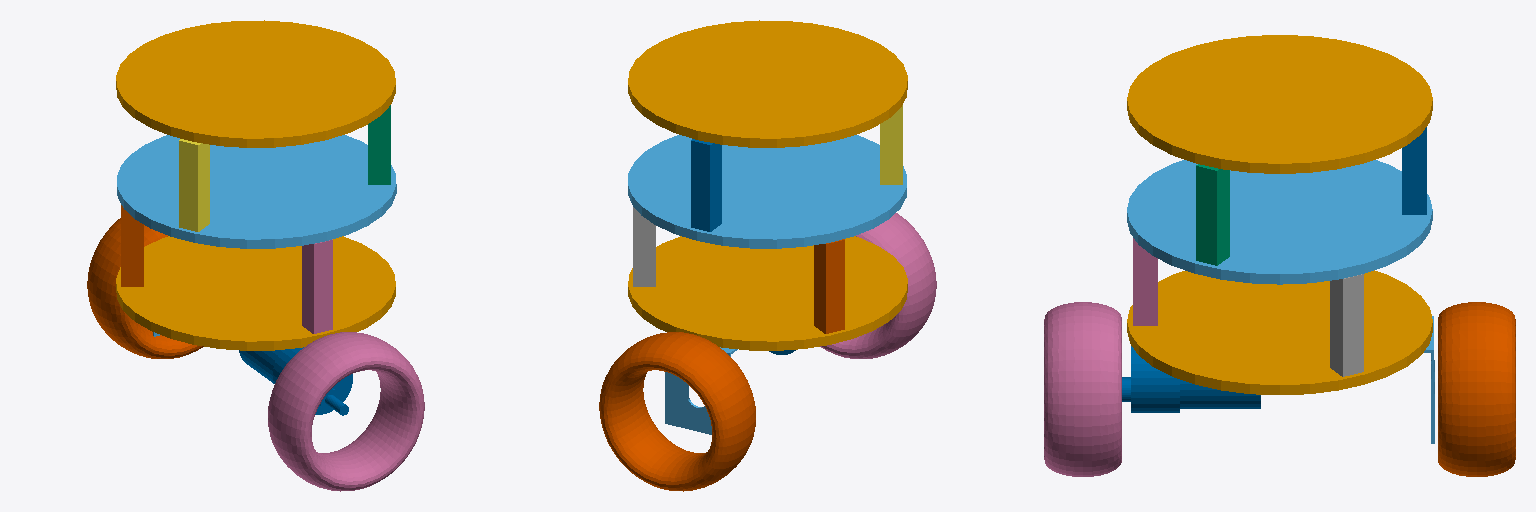
robot.urdf — Paucibot:
<?xml version="1.0"?>
<!-- created with Phobos 1.0.1 "Capricious Choutengan" -->
  <robot name="Paucibot">

    <link name="BaseLink">
      <inertial>
        <origin xyz="0 0 -0.00275" rpy="0 0 0"/>
        <mass value="0.07"/>
        <inertia ixx="0.0001" ixy="0" ixz="0" iyy="0.0001" iyz="0" izz="0.0002"/>
      </inertial>
      <visual name="lower_disc">
        <origin xyz="0 0 0" rpy="0 0 0"/>
        <geometry>
          <mesh filename="../meshes/stl/Circle.004.stl" scale="0.075 0.075 0.06329"/>
        </geometry>
      </visual>
      <collision name="lower_disc">
        <origin xyz="0 0 -0.00275" rpy="0 0 0"/>
        <geometry>
          <cylinder radius="0.075" length="0.0055"/>
        </geometry>
      </collision>
    </link>

    <link name="Holder1_link">
      <inertial>
        <origin xyz="0 0 0" rpy="0 0 0"/>
        <mass value="0.03"/>
        <inertia ixx="0.001" ixy="0" ixz="0" iyy="0.001" iyz="0" izz="0.001"/>
      </inertial>
      <visual name="Holder2">
        <origin xyz="0 0 0" rpy="0 0 0"/>
        <geometry>
          <mesh filename="../meshes/stl/Cube.010.stl" scale="0.95238 0.7619 0.03429"/>
        </geometry>
      </visual>
      <collision name="Holder2">
        <origin xyz="0.00045 0 0.01455" rpy="0 0 0"/>
        <geometry>
          <box size="0.0509 0.04 0.0309"/>
        </geometry>
      </collision>
    </link>

    <link name="Holder2_link">
      <inertial>
        <origin xyz="0 0 0" rpy="0 0 0"/>
        <mass value="0.03"/>
        <inertia ixx="0.001" ixy="0" ixz="0" iyy="0.001" iyz="0" izz="0.001"/>
      </inertial>
      <visual name="Holder1">
        <origin xyz="0 0 0" rpy="0 0 0"/>
        <geometry>
          <mesh filename="../meshes/stl/Cube.009.stl" scale="0.95238 0.7619 0.03429"/>
        </geometry>
      </visual>
      <collision name="Holder1">
        <origin xyz="0.00045 0 0.01455" rpy="0 0 0"/>
        <geometry>
          <box size="0.0509 0.04 0.0309"/>
        </geometry>
      </collision>
    </link>

    <link name="Motor1_link">
      <inertial>
        <origin xyz="0 0 -0.02034" rpy="0 0 0"/>
        <mass value="0.225"/>
        <inertia ixx="7e-05" ixy="0" ixz="0" iyy="3e-05" iyz="0" izz="2e-05"/>
      </inertial>
      <visual name="Motor1">
        <origin xyz="0 0 0" rpy="0 0 0"/>
        <geometry>
          <mesh filename="../meshes/stl/Cylinder.stl" scale="1.0 1.0 1.0"/>
        </geometry>
      </visual>
      <collision name="Motor1">
        <origin xyz="0 0 -0.02034" rpy="0 0 0"/>
        <geometry>
          <cylinder radius="0.018" length="0.06216"/>
        </geometry>
      </collision>
    </link>

    <link name="Motor2_link">
      <inertial>
        <origin xyz="0 0 -0.02027" rpy="0 0 0"/>
        <mass value="0.225"/>
        <inertia ixx="7e-05" ixy="0" ixz="0" iyy="3e-05" iyz="0" izz="2e-05"/>
      </inertial>
      <visual name="Motor2">
        <origin xyz="0 0 0" rpy="0 0 0"/>
        <geometry>
          <mesh filename="../meshes/stl/Cylinder.001.stl" scale="1.0 1.0 1.0"/>
        </geometry>
      </visual>
      <collision name="Motor2">
        <origin xyz="0 0 -0.02027" rpy="0 0 0"/>
        <geometry>
          <cylinder radius="0.018" length="0.06262"/>
        </geometry>
      </collision>
    </link>

    <link name="Pillar1_link">
      <inertial>
        <origin xyz="0 0 0" rpy="0 0 0"/>
        <mass value="0.001"/>
        <inertia ixx="2e-05" ixy="0" ixz="0" iyy="2e-05" iyz="0" izz="2e-05"/>
      </inertial>
      <visual name="Pillar1">
        <origin xyz="0 0.00474 0.00025" rpy="0 0 0"/>
        <geometry>
          <box size="0.0122 0.0122 0.053"/>
        </geometry>
      </visual>
      <collision name="Pillar1">
        <origin xyz="0 0.00474 0.00025" rpy="0 0 0"/>
        <geometry>
          <box size="0.0122 0.0122 0.053"/>
        </geometry>
      </collision>
    </link>

    <link name="Pillar2_link">
      <inertial>
        <origin xyz="0 0 0" rpy="0 0 0"/>
        <mass value="0.001"/>
        <inertia ixx="2e-05" ixy="0" ixz="0" iyy="2e-05" iyz="0" izz="2e-05"/>
      </inertial>
      <visual name="Pillar2">
        <origin xyz="0 0.00475 0.00025" rpy="0 0 0"/>
        <geometry>
          <box size="0.0122 0.0122 0.053"/>
        </geometry>
      </visual>
      <collision name="Pillar2">
        <origin xyz="0 0.00475 0.00025" rpy="0 0 0"/>
        <geometry>
          <box size="0.0122 0.0122 0.053"/>
        </geometry>
      </collision>
    </link>

    <link name="Pillar3_link">
      <inertial>
        <origin xyz="0 0 0" rpy="0 0 0"/>
        <mass value="0.001"/>
        <inertia ixx="2e-05" ixy="0" ixz="0" iyy="2e-05" iyz="0" izz="2e-05"/>
      </inertial>
      <visual name="Pillar3">
        <origin xyz="0 0.00474 0.00025" rpy="0 0 0"/>
        <geometry>
          <box size="0.0122 0.0122 0.053"/>
        </geometry>
      </visual>
      <collision name="Pillar3">
        <origin xyz="0 0.00474 0.00025" rpy="0 0 0"/>
        <geometry>
          <box size="0.0122 0.0122 0.053"/>
        </geometry>
      </collision>
    </link>

    <link name="TopDisk">
      <inertial>
        <origin xyz="0 0 -0.00275" rpy="0 0 0"/>
        <mass value="0.07"/>
        <inertia ixx="0.0001" ixy="0" ixz="0" iyy="0.0001" iyz="0" izz="0.0002"/>
      </inertial>
      <visual name="upper_disc.001">
        <origin xyz="0 0 0" rpy="0 0 0"/>
        <geometry>
          <cylinder radius="0.075" length="0.0055"/>
        </geometry>
      </visual>
      <collision name="upper_disc.001">
        <origin xyz="0 0 -0.00275" rpy="0 0 0"/>
        <geometry>
          <cylinder radius="0.075" length="0.0055"/>
        </geometry>
      </collision>
    </link>

    <link name="UpperLink">
      <inertial>
        <origin xyz="0 0 -0.00275" rpy="0 0 0"/>
        <mass value="0.07"/>
        <inertia ixx="0.0001" ixy="0" ixz="0" iyy="0.0001" iyz="0" izz="0.0002"/>
      </inertial>
      <visual name="mid_disc">
        <origin xyz="0.00032 -0.0001 -0.00061" rpy="0 0 -3.14159"/>
        <geometry>
          <cylinder radius="0.075" length="0.0055"/>
        </geometry>
      </visual>
      <collision name="upper_disc">
        <origin xyz="0 0 -0.00275" rpy="0 0 0"/>
        <geometry>
          <cylinder radius="0.075" length="0.0055"/>
        </geometry>
      </collision>
    </link>

    <link name="UpperPillar1">
      <inertial>
        <origin xyz="0 0 0" rpy="0 0 0"/>
        <mass value="0.001"/>
        <inertia ixx="2e-05" ixy="0" ixz="0" iyy="2e-05" iyz="0" izz="2e-05"/>
      </inertial>
      <visual name="Pillar1.001">
        <origin xyz="0 0 0" rpy="0 0 0"/>
        <geometry>
          <box size="0.0122 0.0122 0.053"/>
        </geometry>
      </visual>
      <collision name="Pillar1.001">
        <origin xyz="0 0 0" rpy="0 0 0"/>
        <geometry>
          <box size="0.0122 0.0122 0.053"/>
        </geometry>
      </collision>
    </link>

    <link name="UpperPillar2">
      <inertial>
        <origin xyz="0 0 0" rpy="0 0 0"/>
        <mass value="0.001"/>
        <inertia ixx="4e-05" ixy="0" ixz="0" iyy="4e-05" iyz="0" izz="2e-05"/>
      </inertial>
      <visual name="Pillar2.001">
        <origin xyz="0 0 0" rpy="0 0 0"/>
        <geometry>
          <box size="0.0122 0.0122 0.053"/>
        </geometry>
      </visual>
      <collision name="Pillar3.001">
        <origin xyz="0 0 0" rpy="0 0 0"/>
        <geometry>
          <box size="0.0122 0.0122 0.053"/>
        </geometry>
      </collision>
    </link>

    <link name="UpperPillar3">
      <inertial>
        <origin xyz="0 0 0" rpy="0 0 0"/>
        <mass value="0.001"/>
        <inertia ixx="2e-05" ixy="0" ixz="0" iyy="2e-05" iyz="0" izz="2e-05"/>
      </inertial>
      <visual name="Pillar3.001.000">
        <origin xyz="0 0 0" rpy="0 0 0"/>
        <geometry>
          <box size="0.0122 0.0122 0.053"/>
        </geometry>
      </visual>
      <collision name="Pillar2.001">
        <origin xyz="0 0 0" rpy="0 0 0"/>
        <geometry>
          <box size="0.0122 0.0122 0.053"/>
        </geometry>
      </collision>
    </link>

    <link name="wheel1_link">
      <inertial>
        <origin xyz="0 0 0" rpy="0 0 0"/>
        <mass value="0.13"/>
        <inertia ixx="4e-05" ixy="0" ixz="0" iyy="7e-05" iyz="0" izz="0.00117"/>
      </inertial>
      <visual name="Wheel1">
        <origin xyz="0 0 0" rpy="0 0 0"/>
        <geometry>
          <mesh filename="../meshes/stl/Torus.stl" scale="0.81132 0.81132 1.89758"/>
        </geometry>
      </visual>
      <collision name="Wheel1">
        <origin xyz="0 0 0" rpy="0 0 0"/>
        <geometry>
          <cylinder radius="0.043" length="0.03798"/>
        </geometry>
      </collision>
    </link>

    <link name="wheel2_link">
      <inertial>
        <origin xyz="0 0 0" rpy="0 0 0"/>
        <mass value="0.13"/>
        <inertia ixx="4e-05" ixy="0" ixz="0" iyy="7e-05" iyz="0" izz="0.00117"/>
      </inertial>
      <visual name="Wheel2">
        <origin xyz="0 0 0" rpy="0 0 0"/>
        <geometry>
          <mesh filename="../meshes/stl/Torus.002.stl" scale="0.81132 0.81132 1.89758"/>
        </geometry>
      </visual>
      <collision name="Wheel2">
        <origin xyz="0 0 0" rpy="0 0 0"/>
        <geometry>
          <cylinder radius="0.043" length="0.03798"/>
        </geometry>
      </collision>
    </link>

    <joint name="Holder1_link" type="fixed">
      <origin xyz="0 0.075 -0.0323" rpy="1.5708 -1.5708 0"/>
      <parent link="BaseLink"/>
      <child link="Holder1_link"/>
    </joint>

    <joint name="Holder2_link" type="fixed">
      <origin xyz="0 -0.075 -0.0323" rpy="-1.5708 -1.5708 0"/>
      <parent link="BaseLink"/>
      <child link="Holder2_link"/>
    </joint>

    <joint name="Motor1_link" type="fixed">
      <origin xyz="0.002 0 0.0138" rpy="0 3.14159 0"/>
      <parent link="Holder1_link"/>
      <child link="Motor1_link"/>
    </joint>

    <joint name="Motor2_link" type="fixed">
      <origin xyz="0.002 0 0.0139" rpy="0 -3.14159 0"/>
      <parent link="Holder2_link"/>
      <child link="Motor2_link"/>
    </joint>

    <joint name="Pillar1_link" type="fixed">
      <origin xyz="-0.06127 0.03537 0.02625" rpy="0 0 -2.0944"/>
      <parent link="BaseLink"/>
      <child link="Pillar1_link"/>
    </joint>

    <joint name="Pillar2_link" type="fixed">
      <origin xyz="0 -0.07075 0.02625" rpy="0 0 0"/>
      <parent link="BaseLink"/>
      <child link="Pillar2_link"/>
    </joint>

    <joint name="Pillar3_link" type="fixed">
      <origin xyz="0.06127 0.03537 0.02625" rpy="0 0 2.0944"/>
      <parent link="BaseLink"/>
      <child link="Pillar3_link"/>
    </joint>

    <joint name="TopDisk" type="fixed">
      <origin xyz="0 0.066 0.032" rpy="0 0 0"/>
      <parent link="UpperPillar3"/>
      <child link="TopDisk"/>
    </joint>

    <joint name="UpperLink" type="fixed">
      <origin xyz="0 0.07075 0.03175" rpy="0 0 0"/>
      <parent link="Pillar2_link"/>
      <child link="UpperLink"/>
    </joint>

    <joint name="UpperPillar1" type="fixed">
      <origin xyz="0.05716 -0.033 0.027" rpy="0 0 1.0472"/>
      <parent link="UpperLink"/>
      <child link="UpperPillar1"/>
    </joint>

    <joint name="UpperPillar2" type="fixed">
      <origin xyz="-0.05716 -0.033 0.027" rpy="0 0 -1.0472"/>
      <parent link="UpperLink"/>
      <child link="UpperPillar2"/>
    </joint>

    <joint name="UpperPillar3" type="fixed">
      <origin xyz="0 0.066 0.027" rpy="0 0 -3.14159"/>
      <parent link="UpperLink"/>
      <child link="UpperPillar3"/>
    </joint>

    <joint name="wheel1_link" type="continuous">
      <origin xyz="-0.005 0 -0.0215" rpy="0 0 -1.5708"/>
      <parent link="Holder1_link"/>
      <child link="wheel1_link"/>
      <axis xyz="0 0 1.0"/>
      <limit effort="0.26" velocity="15.708"/>
    </joint>

    <joint name="wheel2_link" type="continuous">
      <origin xyz="0.007 0 0.0354" rpy="0 0 1.5708"/>
      <parent link="Motor2_link"/>
      <child link="wheel2_link"/>
      <axis xyz="0 0 1.0"/>
      <limit effort="0.26" velocity="15.708"/>
    </joint>

  </robot>

--- What the picture shows (computed from the rendered views, not written in the file) ---
Views: 3 orthographic renders of the robot side by side, from view 1: azimuth 30°, elevation 25°; view 2: azimuth 150°, elevation 25°; view 3: azimuth 270°, elevation 25°.
Robot: Paucibot — 15 links, 14 joints (2 continuous, 12 fixed); root link BaseLink; default pose: every joint at zero.
Visible links, largest first — view 1: TopDisk, UpperLink, BaseLink, wheel2_link, wheel1_link, Pillar2_link, UpperPillar2, Motor2_link, Pillar1_link, UpperPillar1; view 2: TopDisk, UpperLink, BaseLink, wheel1_link, wheel2_link, Pillar1_link, UpperPillar3, Holder1_link, Pillar3_link, UpperPillar2; view 3: TopDisk, BaseLink, UpperLink, wheel1_link, wheel2_link, Motor2_link, Pillar3_link, UpperPillar1, Pillar2_link, UpperPillar3.
Link boxes in pixels (x1,y1,x2,y2): TopDisk: [116, 20, 395, 147]; UpperLink: [117, 135, 396, 248]; BaseLink: [116, 236, 395, 350]; wheel2_link: [268, 332, 424, 491]; wheel1_link: [87, 218, 203, 358]; Pillar2_link: [302, 239, 332, 333]; UpperPillar2: [179, 139, 209, 231]; Motor2_link: [239, 347, 352, 415]; Pillar1_link: [121, 205, 143, 286]; UpperPillar1: [368, 105, 390, 184]; TopDisk: [628, 20, 907, 147]; UpperLink: [628, 135, 906, 248]; BaseLink: [628, 236, 907, 350]; wheel1_link: [599, 332, 755, 491]; wheel2_link: [820, 213, 936, 358]; Pillar1_link: [814, 239, 844, 333]; UpperPillar3: [691, 139, 721, 231]; Holder1_link: [665, 347, 737, 434]; Pillar3_link: [633, 207, 655, 286]; UpperPillar2: [880, 105, 902, 184]; TopDisk: [1127, 35, 1432, 173]; BaseLink: [1127, 270, 1432, 394]; UpperLink: [1127, 160, 1432, 284]; wheel1_link: [1438, 302, 1515, 476]; wheel2_link: [1044, 302, 1121, 476]; Motor2_link: [1122, 346, 1260, 412]; Pillar3_link: [1330, 274, 1363, 376]; UpperPillar1: [1196, 164, 1229, 265]; Pillar2_link: [1133, 238, 1157, 325]; UpperPillar3: [1402, 127, 1426, 214].
Size in the robot's own frame: 0.1503 by 0.231 by 0.2001 metres.
5 mesh visuals loaded from 7 distinct referenced files (5 binary STL); not drawn: 2 (reference not matched to a file when rendering).